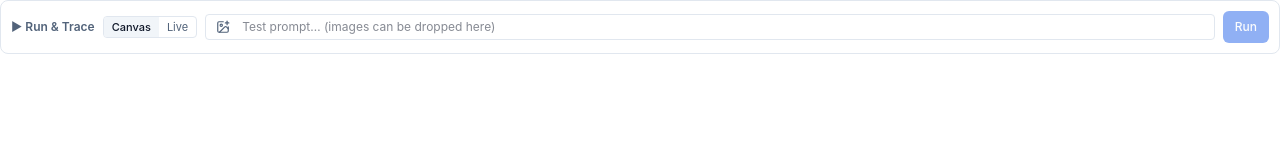
Test: FlowRunDrawer › reports validation errors instead of running a broken canvas
Type "hi" into the field labelled "Test prompt". click: (723, 27)
box: [238,15,1208,39]
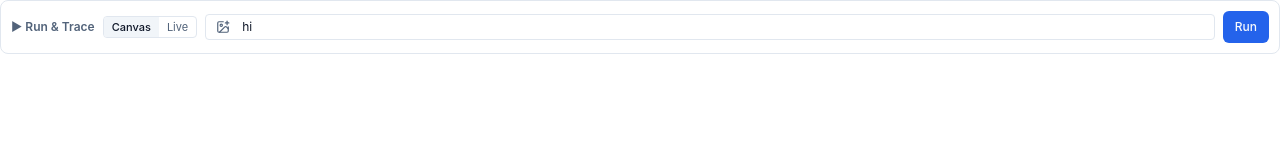
Click the button "Run". click: (1246, 27)
box: [1223,11,1269,43]
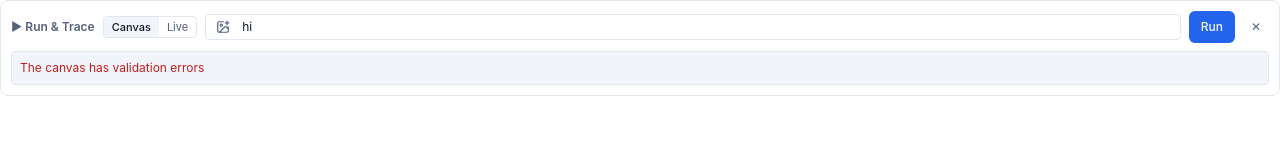
Expected: the message shows "validation errors", [20,60,204,75]
